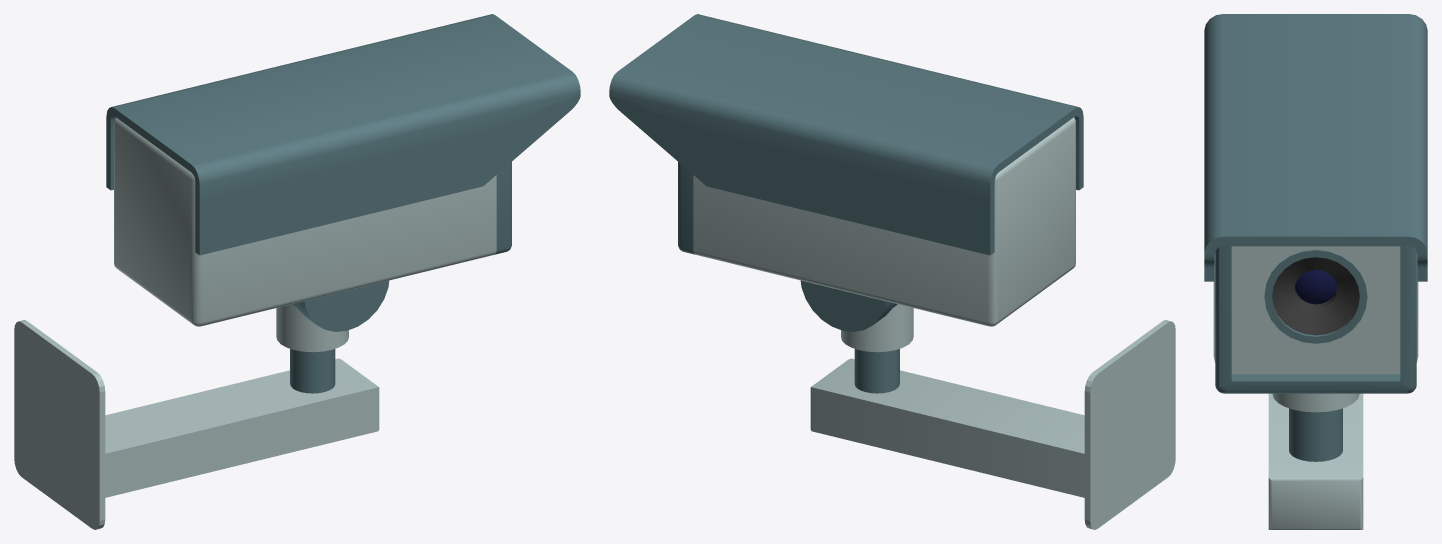
File: 17_2_Model_AIRPORT_0.obj
3 renders of one model, left to right at view 1: azimuth 30°, elevation 25°; view 2: azimuth 150°, elevation 25°; view 3: azimuth 270°, elevation 25°, orthographic. The views are drawn at different scales.
Parts seen in each view (by area): view 1: 17.2.Model_AIRPORT_0; view 2: 17.2.Model_AIRPORT_0; view 3: 17.2.Model_AIRPORT_0.
Part boxes in pixels (left/top/right/bottom): 17.2.Model_AIRPORT_0: left=14, top=14, right=580, bottom=529; 17.2.Model_AIRPORT_0: left=609, top=14, right=1175, bottom=529; 17.2.Model_AIRPORT_0: left=1204, top=14, right=1427, bottom=529.
Bounding box in the file's own units: 0.6826 × 0.469 × 0.231.
Materials: 1 (1 with a texture image).
